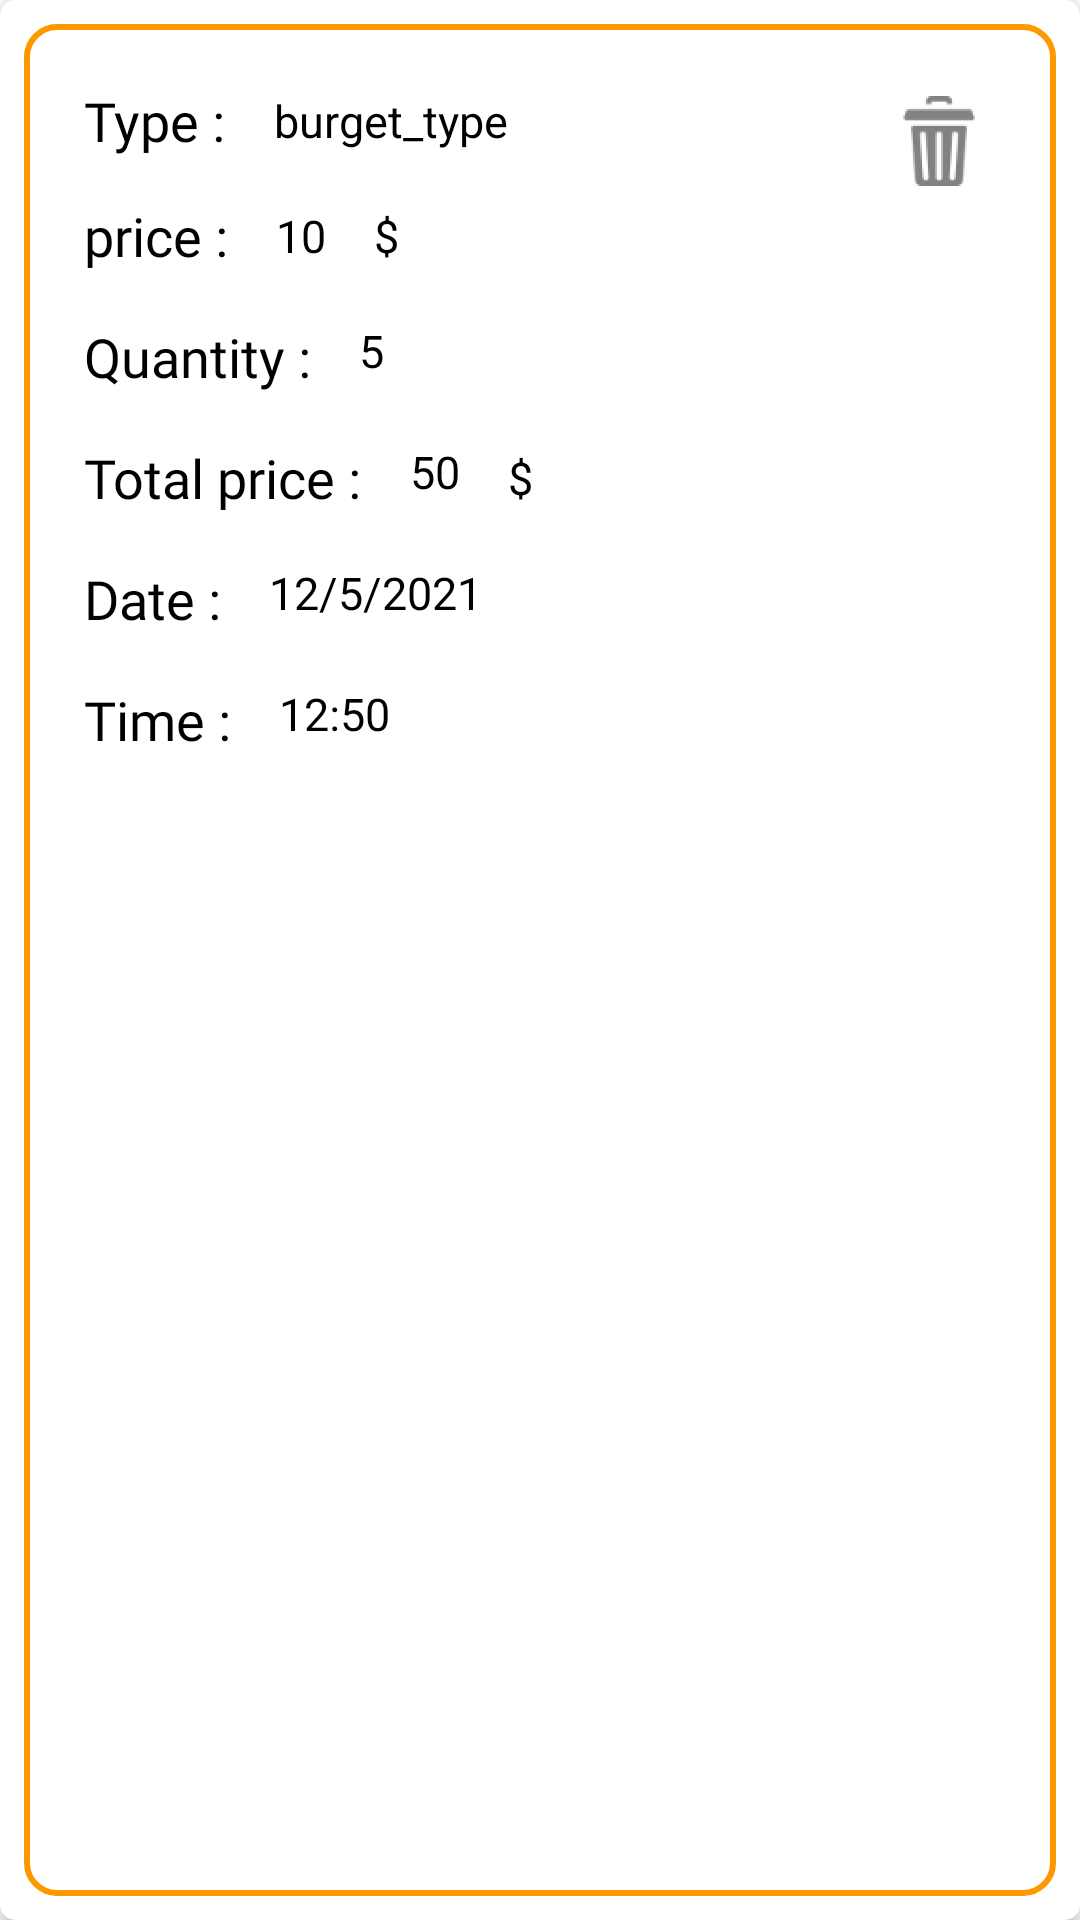

Icon click points for this 1080px x 1920px phone screenshot, format [x,y]:
delete: [939,141]
